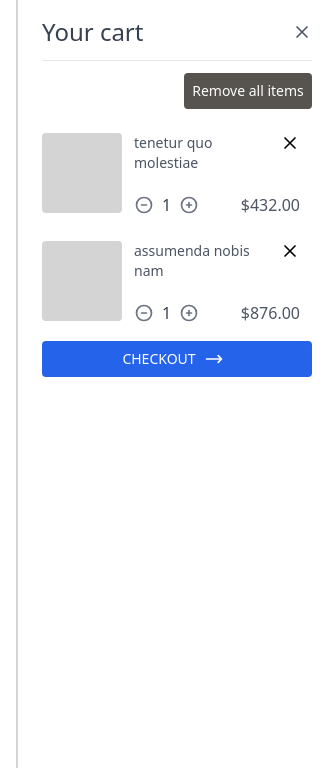
Test: Cart › should remove all products when "remove all items" button gets clicked
Expected: the number of elements with test id "cart-item" is 2, [42, 133, 312, 217]; [42, 241, 312, 325]
Click the button "Remove all items" at (248,91), box [184, 73, 312, 109]
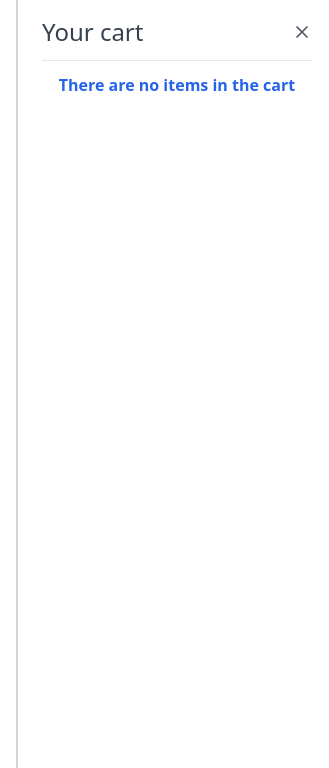
Result: no elements with test id "cart-item" are shown
Result: the heading "There are no items in the cart" is shown at [42, 73, 312, 97]
